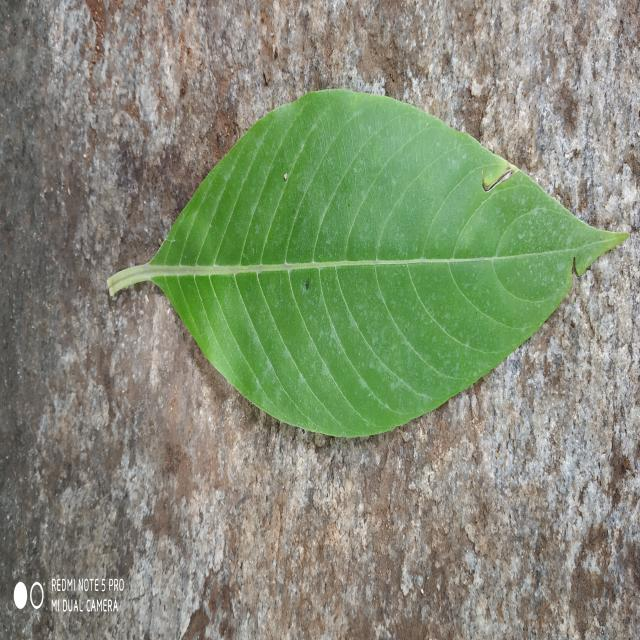malabar_nut: (112, 90, 626, 438)
